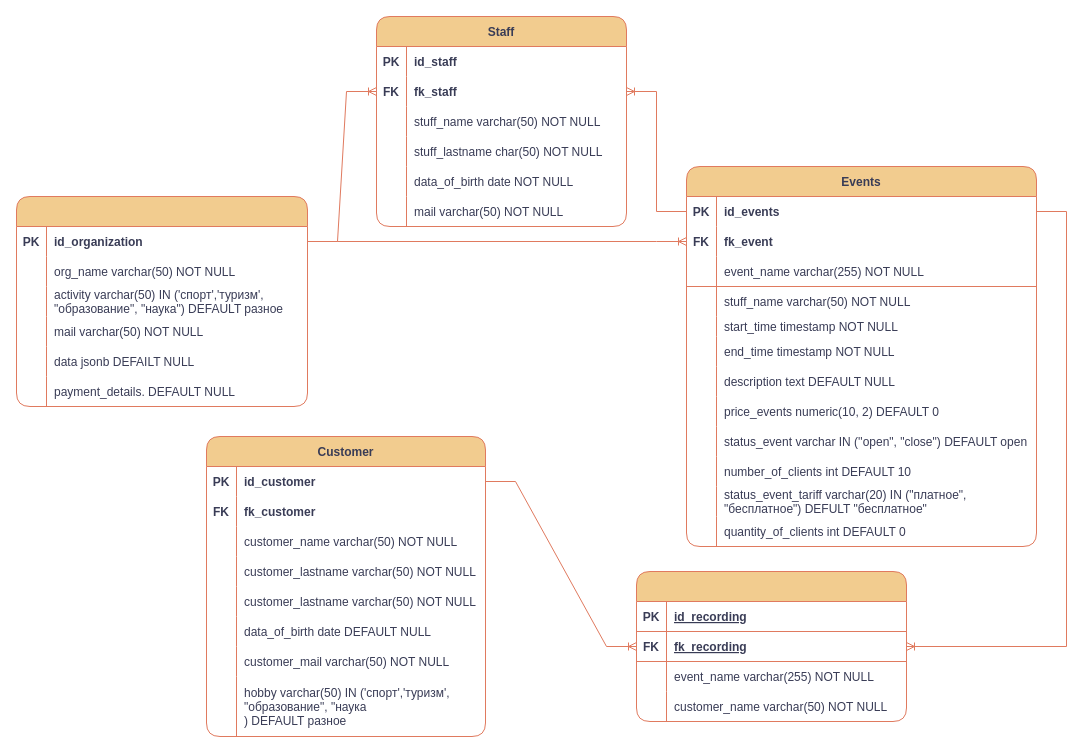
This 1083x753 diagram has some shape labels left out. The shapes that lost their labels are listed below. From the top down, each one's box as (x1, y1, x2, y2) in pixels, then its label:
(16, 196, 308, 406): Organizations
(636, 570, 906, 722): Recordings
